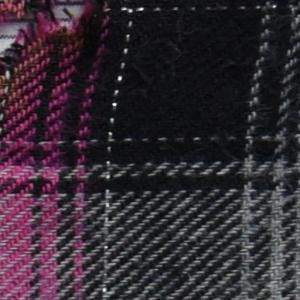Damage: (1, 1, 104, 120)
